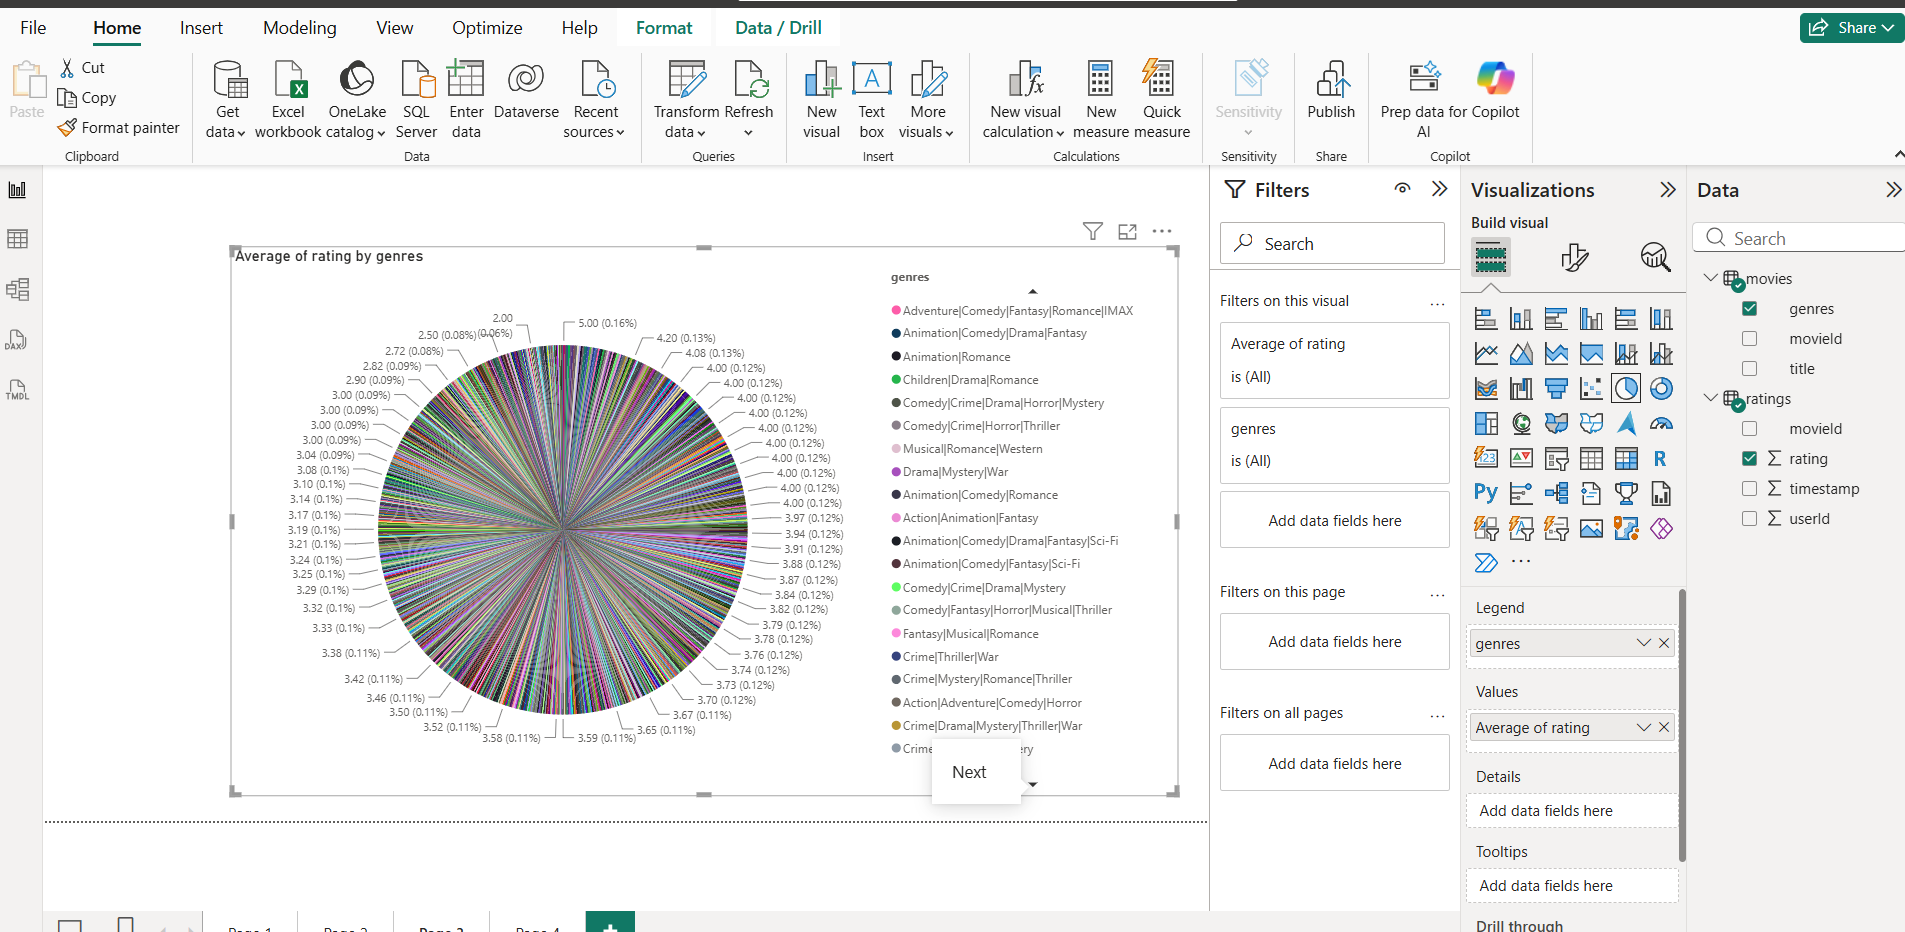

What the dashboard file says about the page in this screenshot:
{"tool":"powerbi","page":{"name":"Page 3","canvas":[1280,720],"ordinal":2},"visuals":[{"type":"pieChart","fields":{"Category":["movies.genres"],"Y":["Avg(ratings.rating)"]},"box":[205.8,89.2,1040.1,603.8],"z":0}]}

Visuals, with their boxes on the page's 1280x720 design canvas (x1, y1, x2, y2). These are canvas units, not pixel positions in the 1905x932 screenshot, which may show the page scaled, cropped or inside an application window:
pieChart - movies.genres x Avg(ratings.rating): <region>206, 89, 1246, 693</region>
